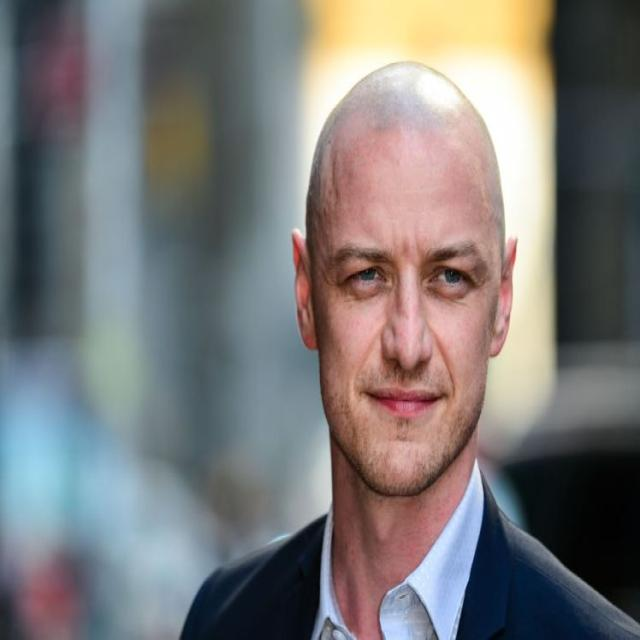no_helmet: (266, 37, 522, 263)
